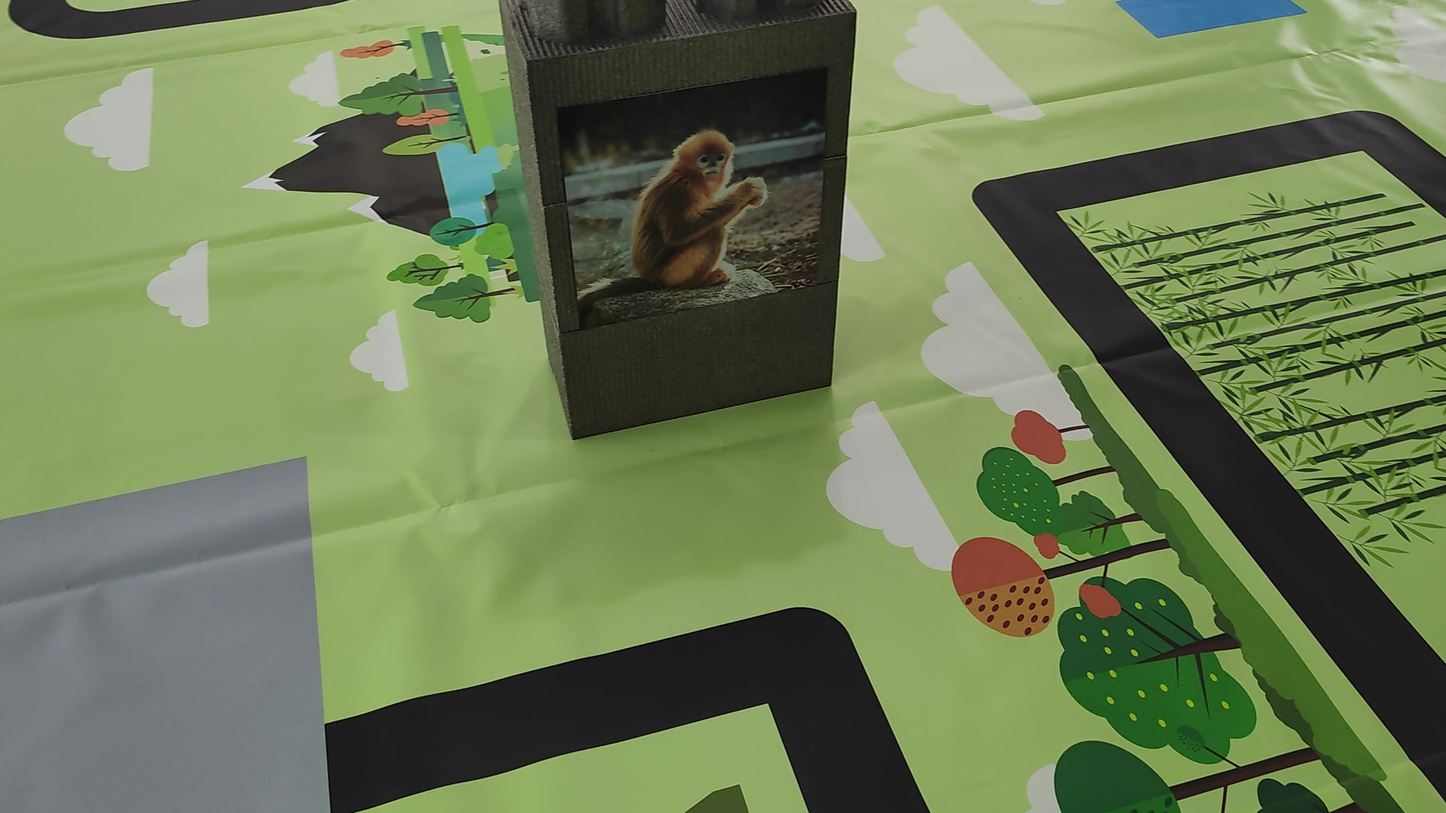monkey: (564, 118, 800, 315)
